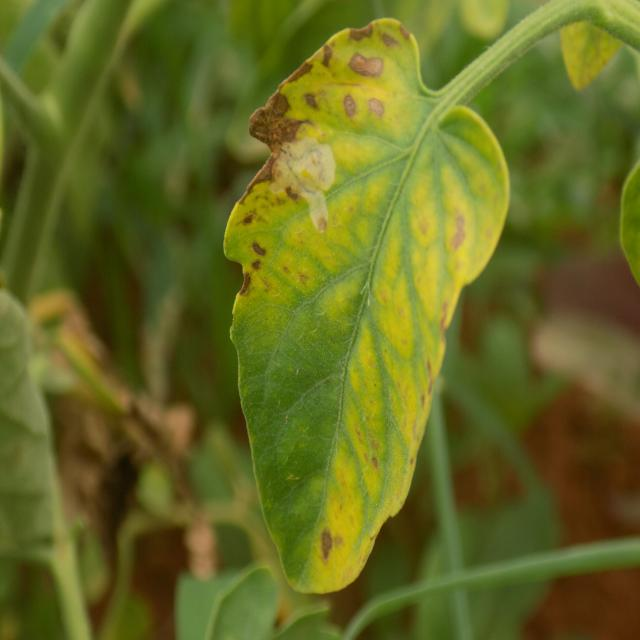tomato_early blight: (219, 8, 509, 592)
